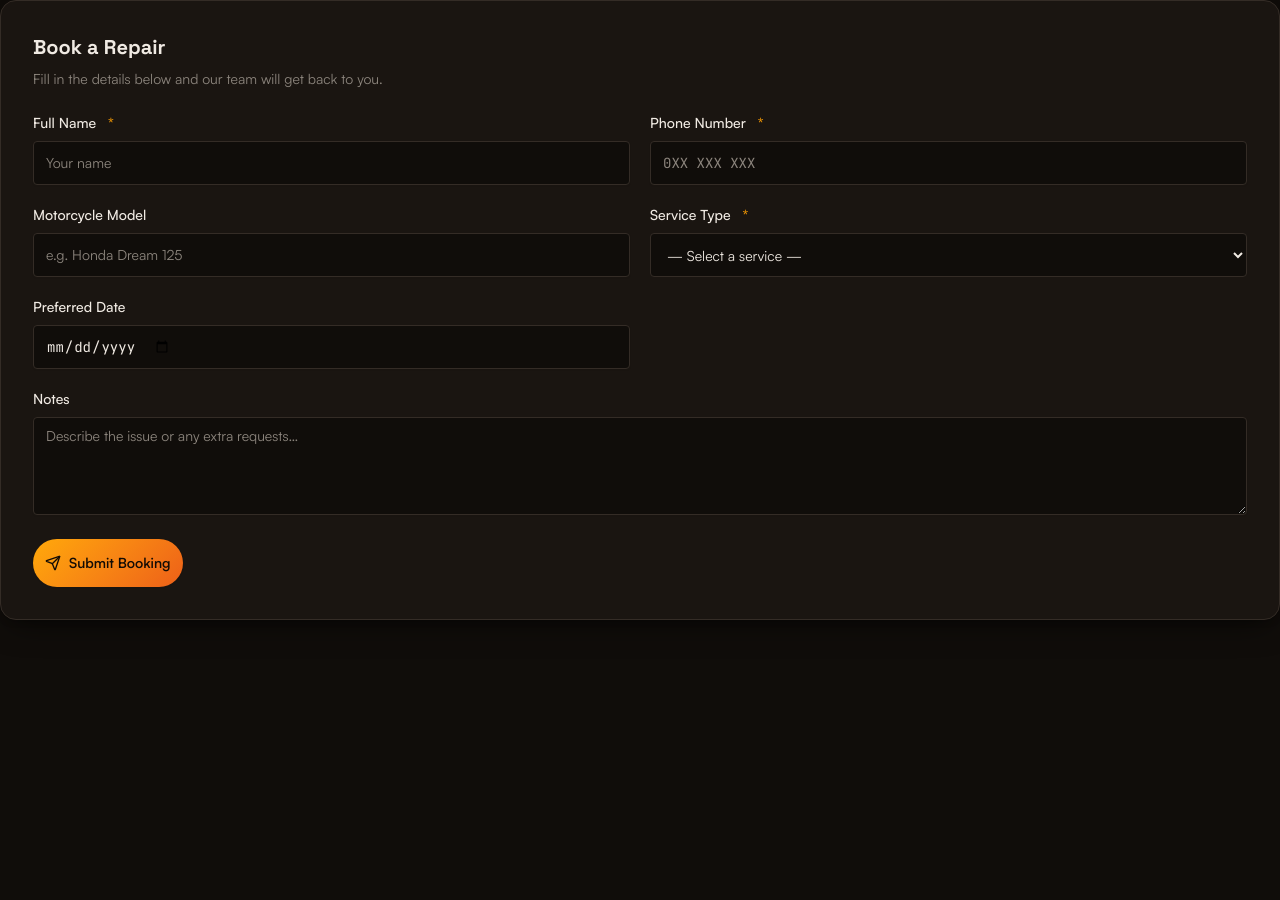
Test case: BookingForm › shows an inline error and does not submit when required fields are empty
The width and height of the screenshot is (1280, 900).
What coordinates should you click on to do the following:
click the button with test id "booking.submit_button"
I would click on:
 (108, 563)
Its box is [33,539,182,587].
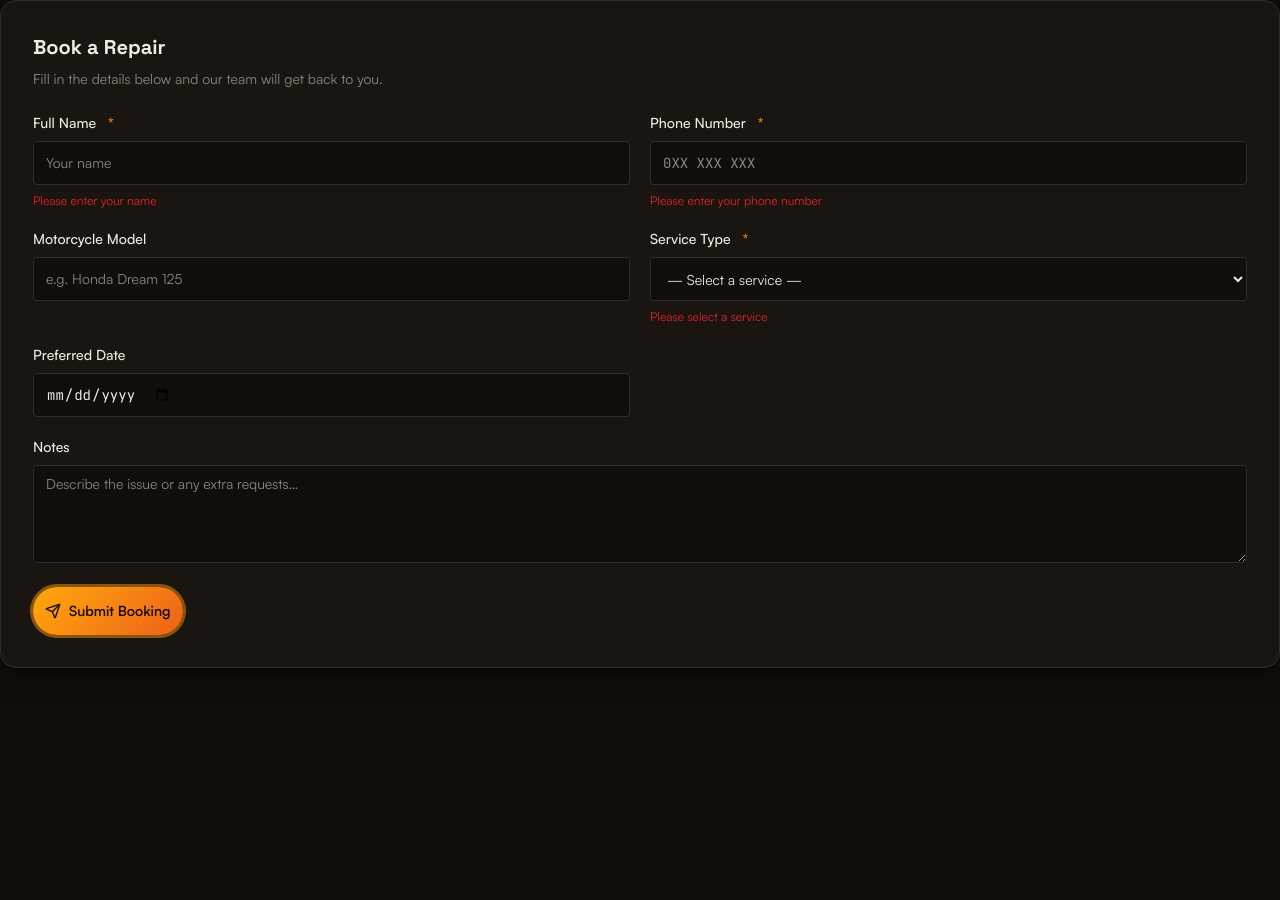
Now the message with test id "booking.name_error" reads "Please enter your name", box [33,193,156,208]
Now the message with test id "booking.phone_error" reads "Please enter your phone number", box [650,193,822,208]
Now the message with test id "booking.service_error" reads "Please select a service", box [650,309,768,324]
